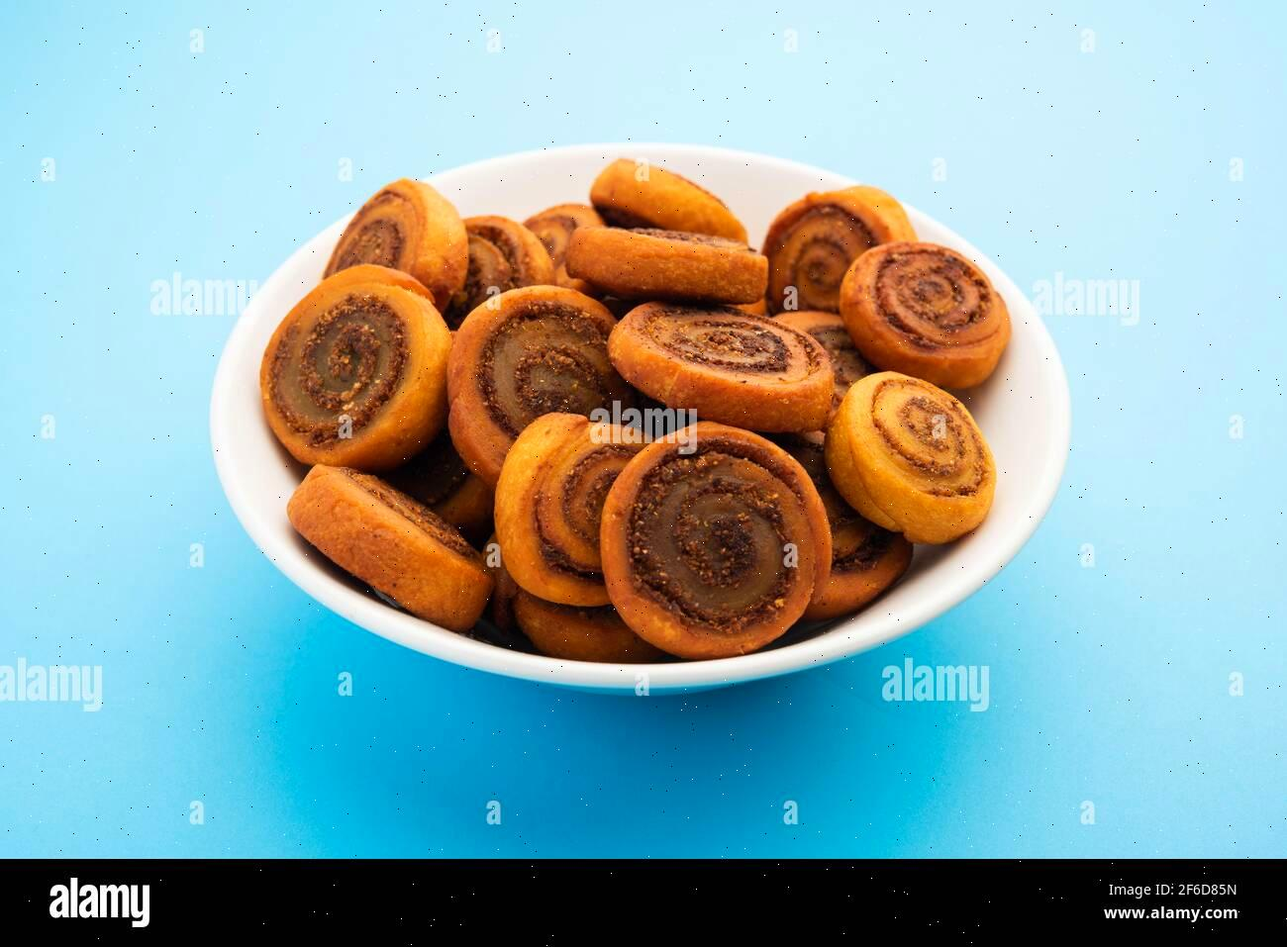bhakarwadi: (262, 160, 1028, 660)
